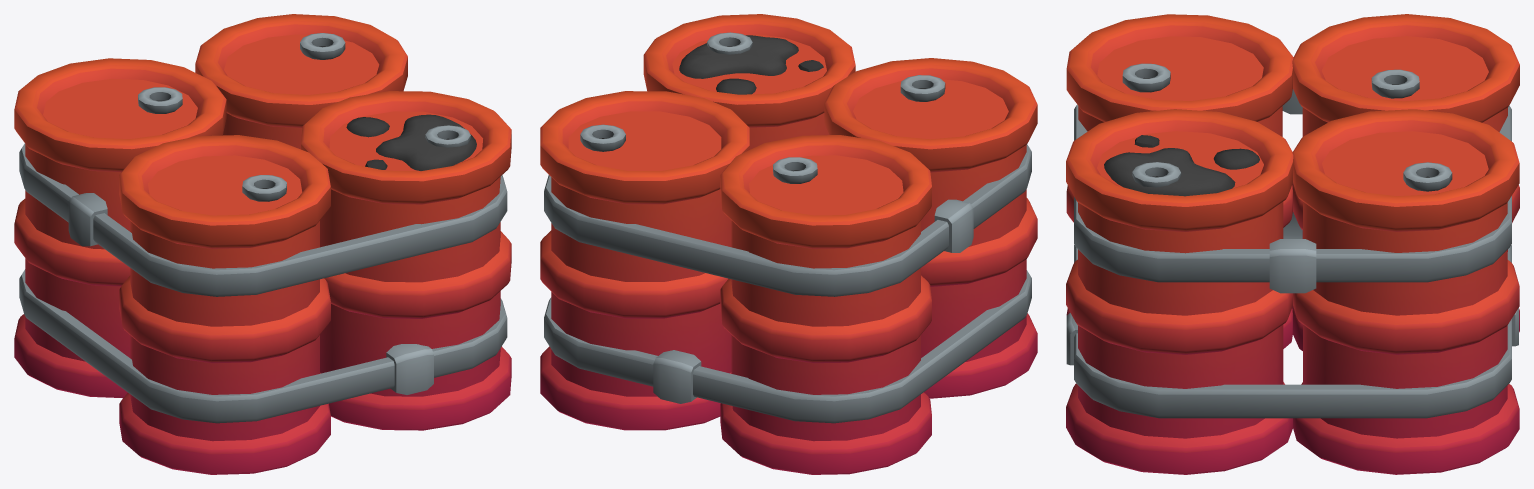
File: fuel_a_barrels.glb
3 views of the same model, side by side, from view 1: azimuth 30°, elevation 25°; view 2: azimuth 150°, elevation 25°; view 3: azimuth 270°, elevation 25° (orthographic). The views are drawn at different scales.
Parts seen in each view (by area): view 1: Fuel_A_Barrels; view 2: Fuel_A_Barrels; view 3: Fuel_A_Barrels.
Part boxes in pixels (<box>): Fuel_A_Barrels: <box>14,14,511,474</box>; Fuel_A_Barrels: <box>540,14,1037,474</box>; Fuel_A_Barrels: <box>1066,14,1519,474</box>.
Bounding box in the file's own units: 0.9087 × 0.6045 × 0.9087.
1 material, 1 textured.
